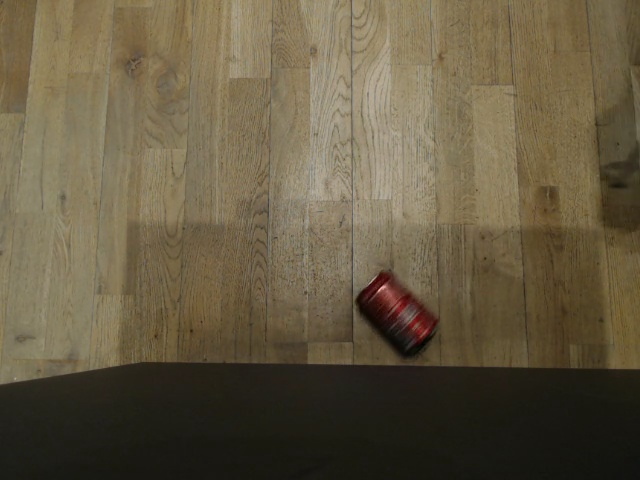coke: (352, 268, 439, 355)
